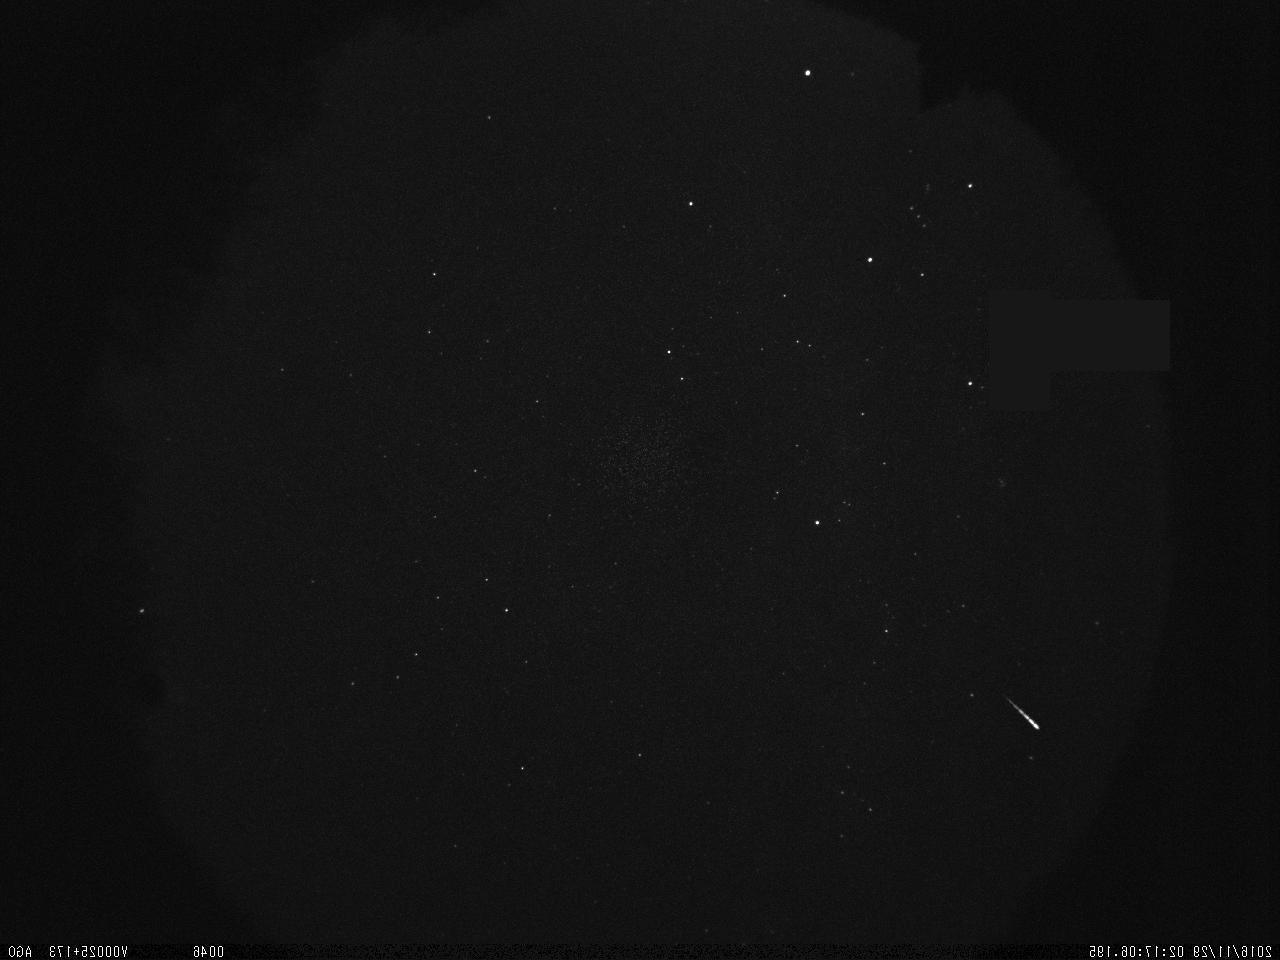meteor: (981, 667, 1059, 746)
